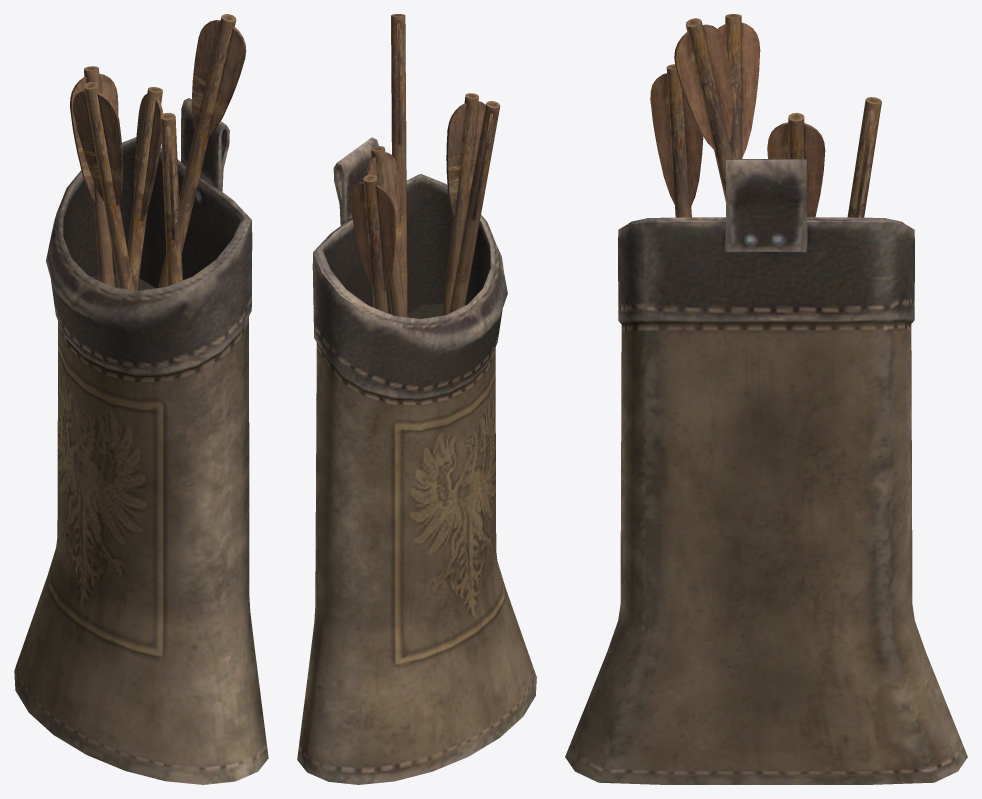
File: Quiver_Bolts_01.fbx
The picture shows the model from 3 angles, left to right: view 1: azimuth 30°, elevation 25°; view 2: azimuth 150°, elevation 25°; view 3: azimuth 270°, elevation 25°; orthographic projection. The views are drawn at different scales.
Parts seen in each view (by area): view 1: Quiver_Bolts_01_LOD0; view 2: Quiver_Bolts_01_LOD0; view 3: Quiver_Bolts_01_LOD0.
Part boxes in pixels (box(x1,y1,x2,y2)): Quiver_Bolts_01_LOD0: box(14, 14, 268, 784); Quiver_Bolts_01_LOD0: box(297, 14, 536, 784); Quiver_Bolts_01_LOD0: box(565, 14, 967, 784).
Size of what is drawn, in the model's own units: 9.28 by 39.82 by 19.03.
